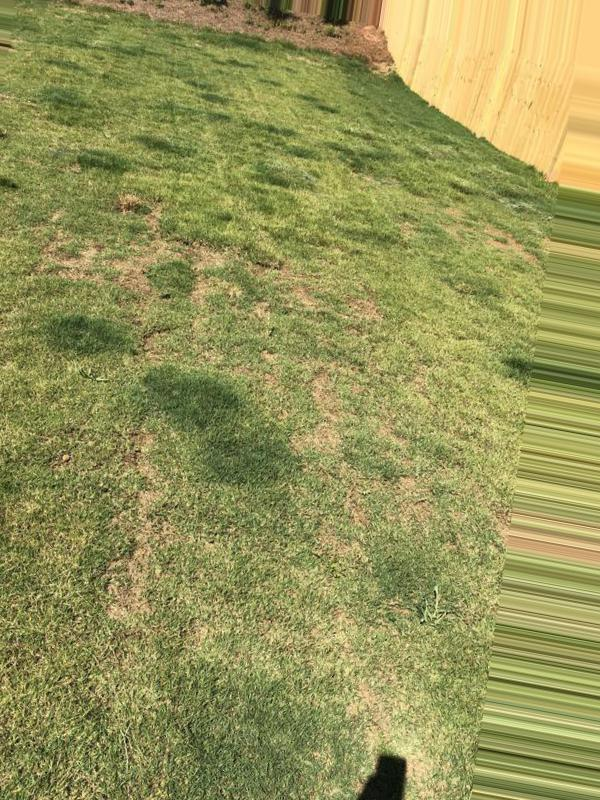patch: (293, 413, 333, 455), (121, 255, 159, 291), (53, 234, 89, 272), (199, 247, 232, 284)
